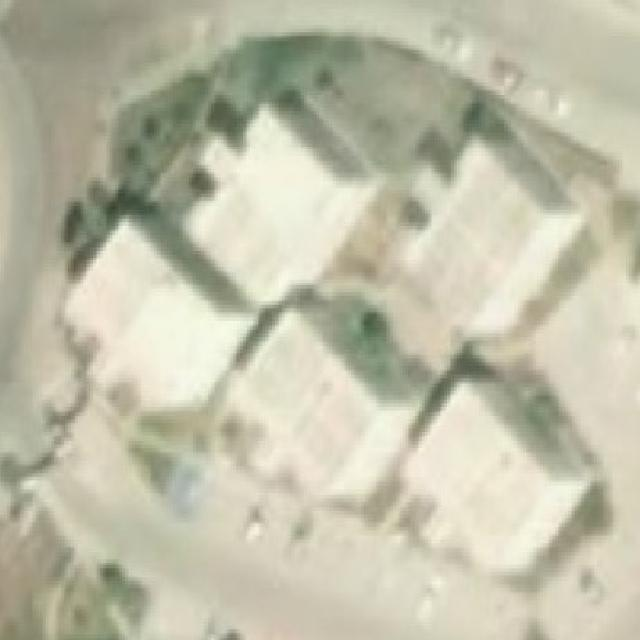Batiment: (220, 299, 414, 503), (406, 378, 594, 574), (191, 108, 374, 301), (66, 221, 251, 408), (200, 110, 375, 304), (404, 142, 582, 332)
